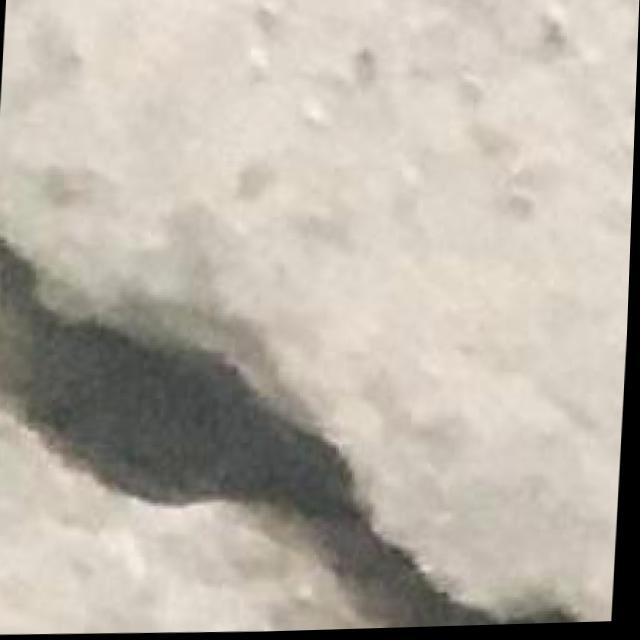Crack: (0, 182, 634, 640)
